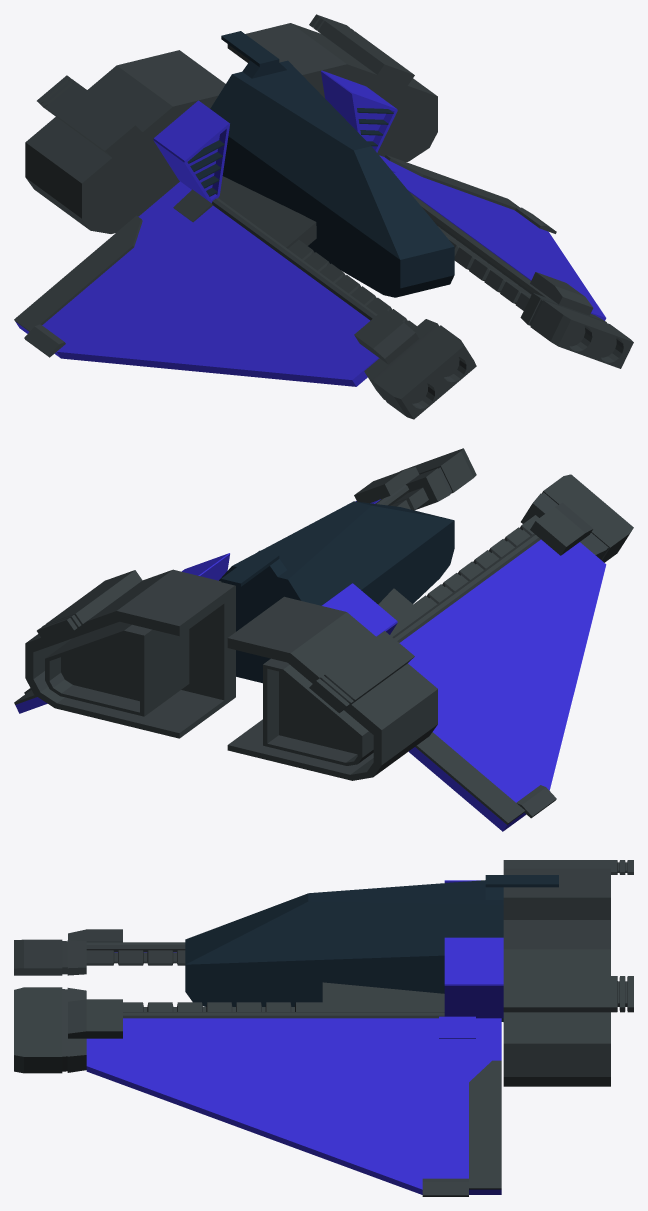
File: SpaceShip3.fbx
3 renders of one model, top to bottom at view 1: azimuth 30°, elevation 25°; view 2: azimuth 150°, elevation 25°; view 3: azimuth 270°, elevation 25°, orthographic. The views are drawn at different scales.
Parts seen in each view (by area): view 1: SpaceShip_4; view 2: SpaceShip_4; view 3: SpaceShip_4.
Part boxes in pixels (x1,y1,x2,y2): SpaceShip_4: (14,14,633,419); SpaceShip_4: (14,448,633,831); SpaceShip_4: (14,860,633,1196).
Bounding box in the file's own units: 5.33 × 2.14 × 5.92.
